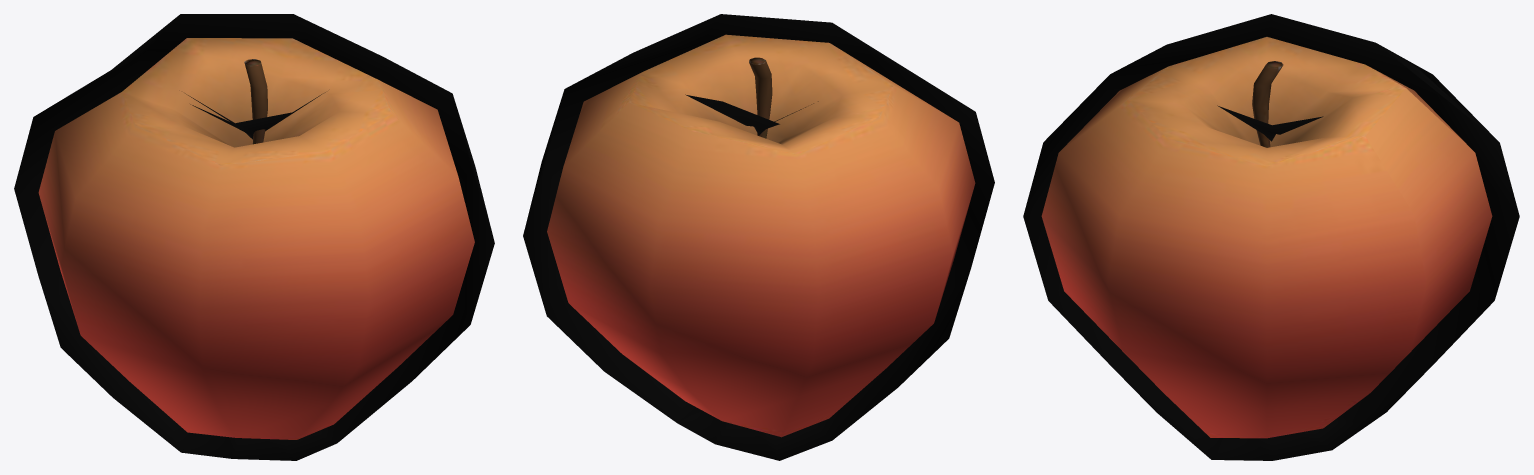
Rendered from apple.fbx.
The picture shows the model from 3 angles, left to right: view 1: azimuth 30°, elevation 25°; view 2: azimuth 150°, elevation 25°; view 3: azimuth 270°, elevation 25°; orthographic projection.
Parts seen in each view (by area): view 1: polySurface5; view 2: polySurface5; view 3: polySurface5.
Part boxes in pixels (x1=…): polySurface5: x1=14, y1=14, x2=494, y2=460; polySurface5: x1=523, y1=14, x2=994, y2=460; polySurface5: x1=1023, y1=14, x2=1519, y2=460.
Size of the model in its own units: 2.22 by 1.84 by 2.22.
